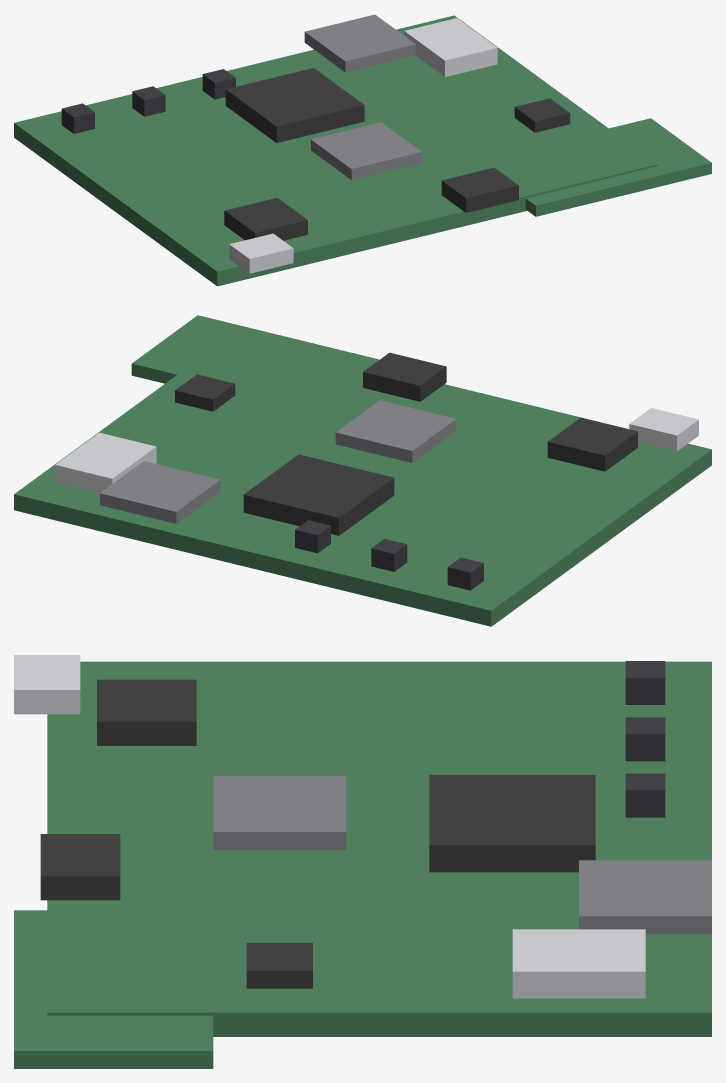
The model's file is mainboard.gltf.
The picture shows the model from 3 angles, top to bottom: view 1: azimuth 30°, elevation 25°; view 2: azimuth 150°, elevation 25°; view 3: azimuth 270°, elevation 25°; orthographic projection. The views are drawn at different scales.
Visible parts, largest first — view 1: mainboard; view 2: mainboard; view 3: mainboard.
Boxes of the visible parts, bbox=[...] form: mainboard: bbox=[14, 14, 711, 286]; mainboard: bbox=[14, 315, 711, 626]; mainboard: bbox=[14, 655, 711, 1068].
Bounding box in the file's own units: 0.275 × 0.019 × 0.21.
